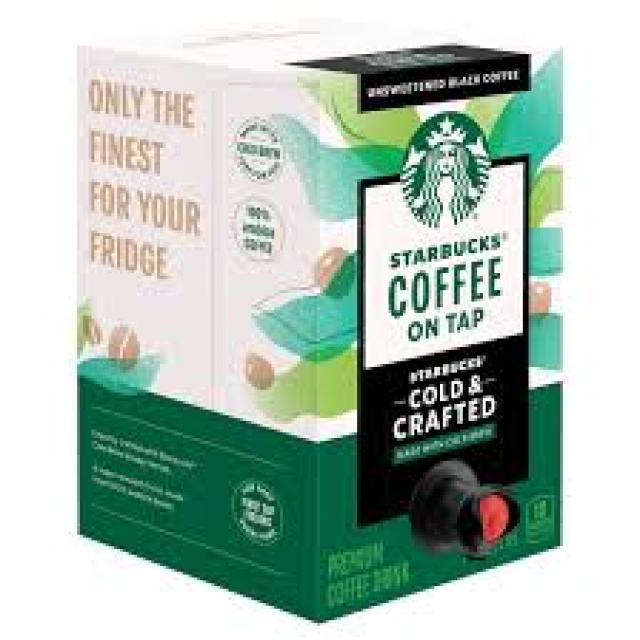coffee: (74, 43, 563, 626)
